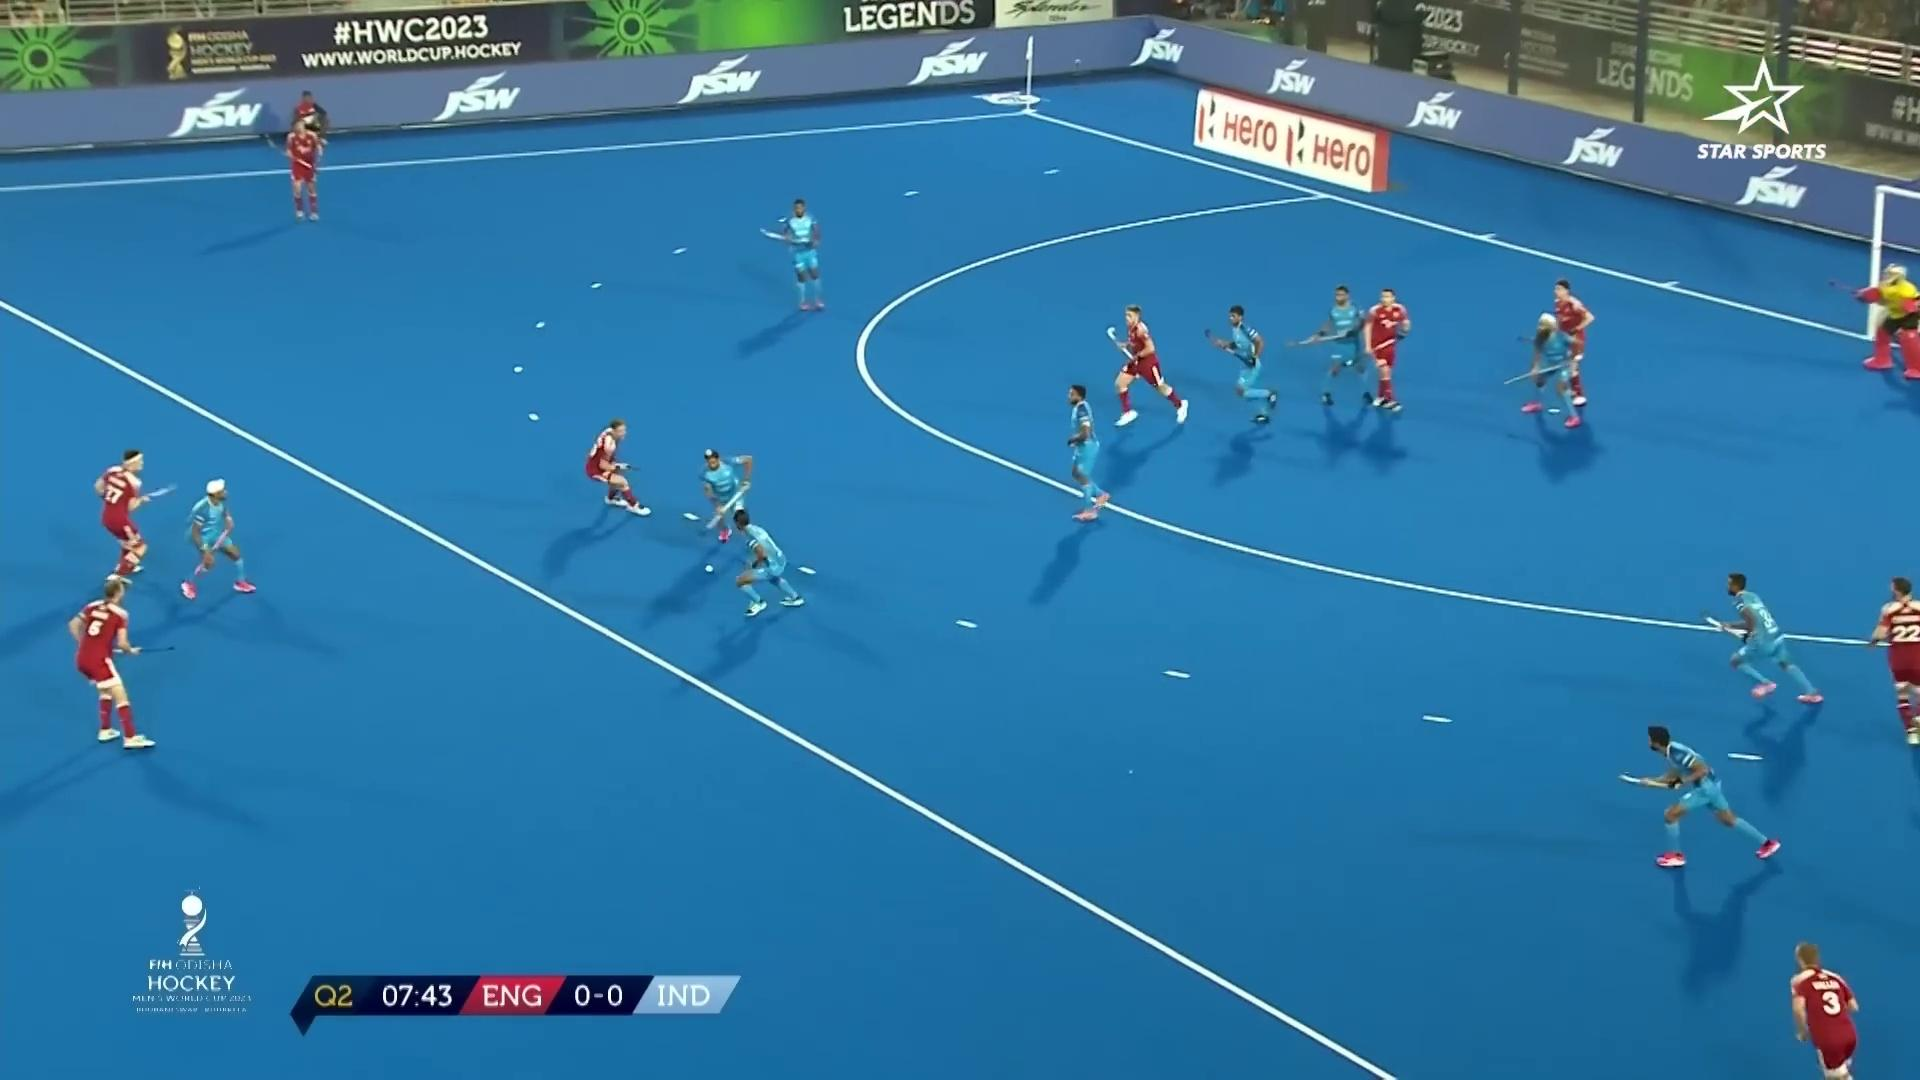ball: (695, 554, 728, 576)
